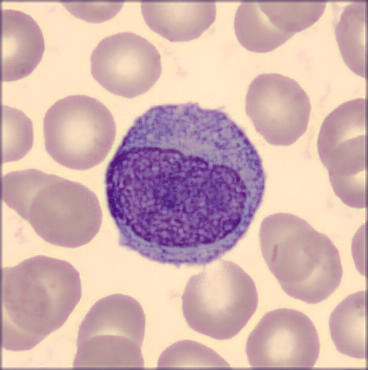WBC: (103, 102, 269, 270)
